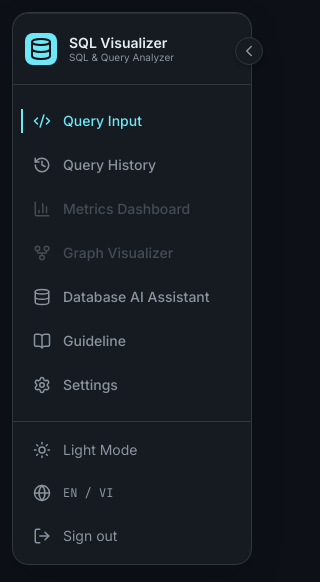
Test case: announces whether the sidebar is expanded
Click the button named "Collapse". click: [249, 51]
box: [235,37,263,65]
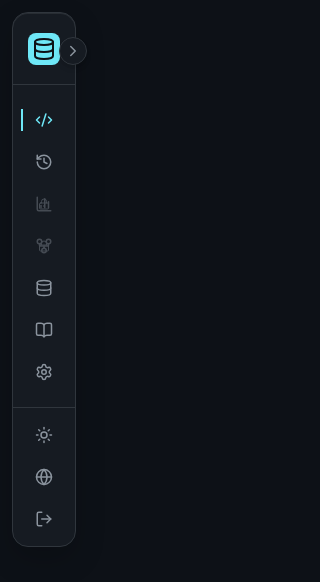
Result: the button named "Expand" is collapsed at [59,37,87,65]
